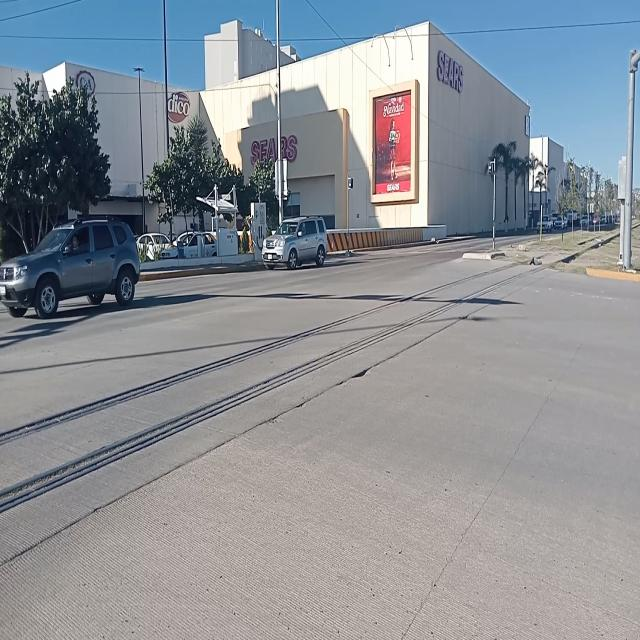Auto: (2, 217, 141, 323), (260, 208, 332, 274)
